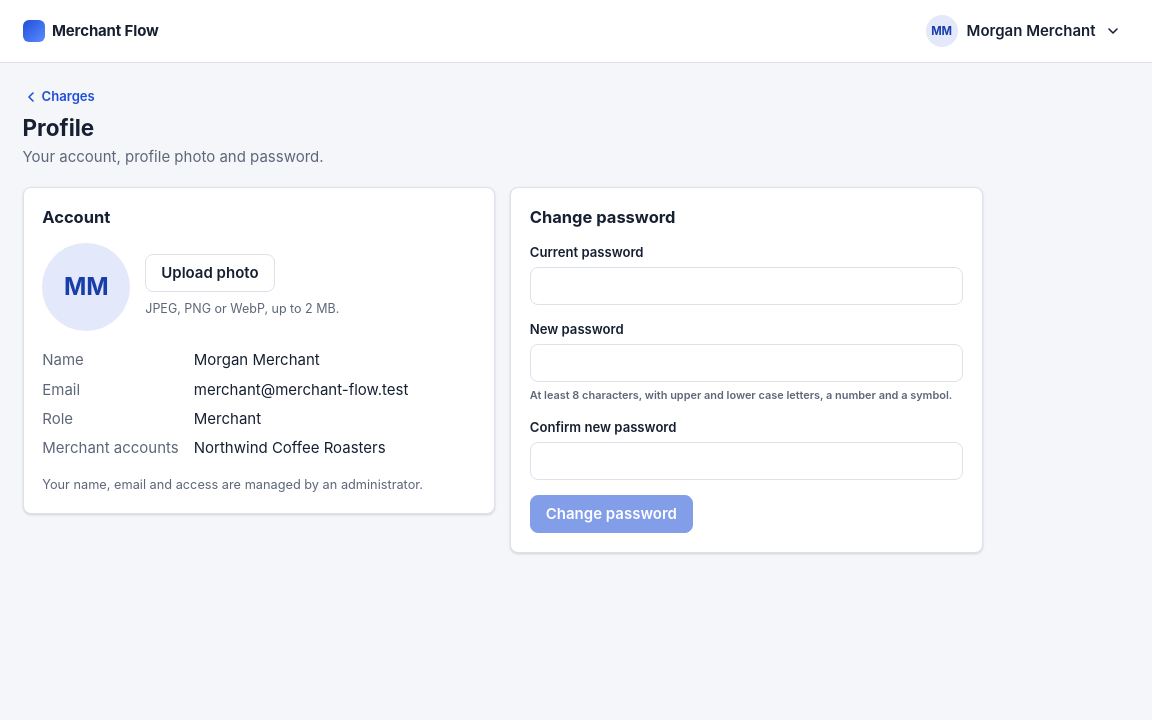
Test: profile page › signs out from the account menu
Expected: the heading "Profile" is shown, [22, 114, 94, 141]
Click the button "MM Morgan Merchant" at [1026, 31], box [922, 11, 1130, 51]
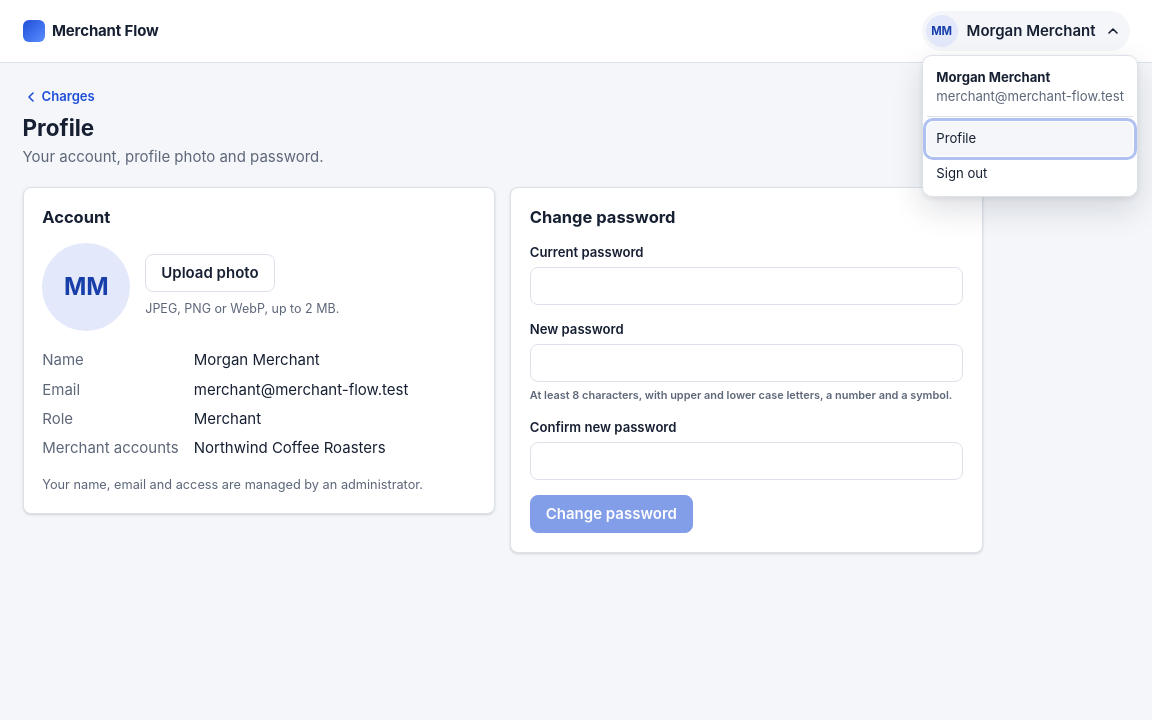
Press Arrowdown Enter
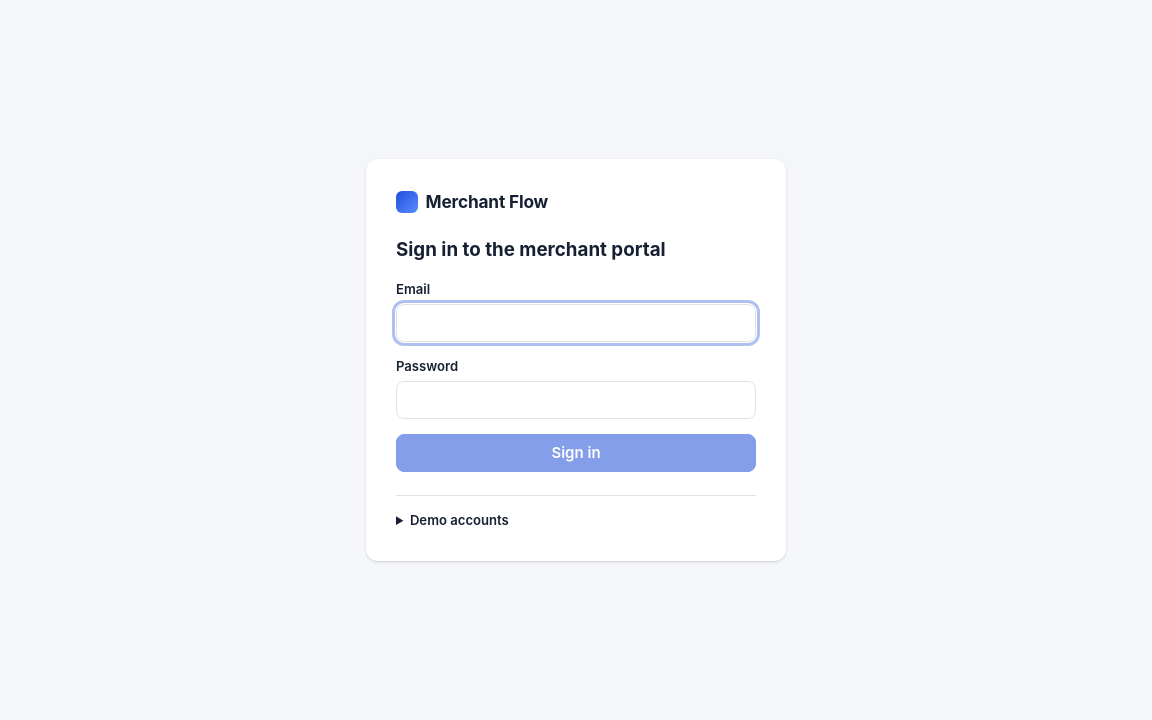
Expected: the heading "Sign in to the merchant portal" is shown, [396, 238, 666, 261]
